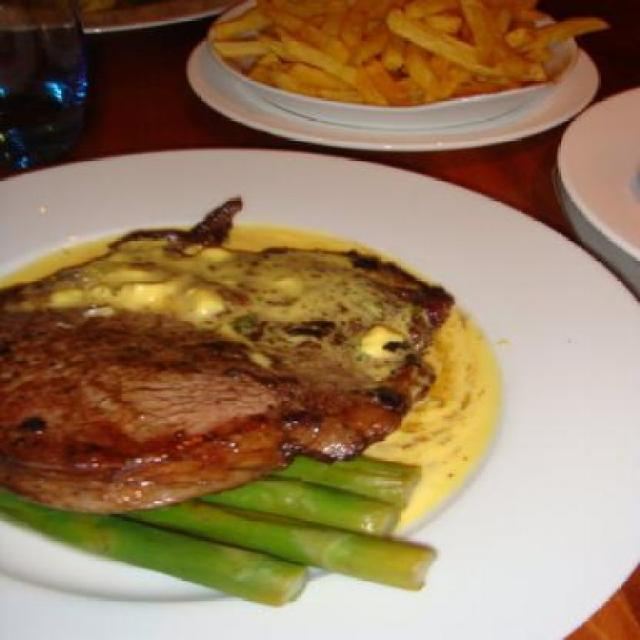Steak: (20, 232, 494, 516)
